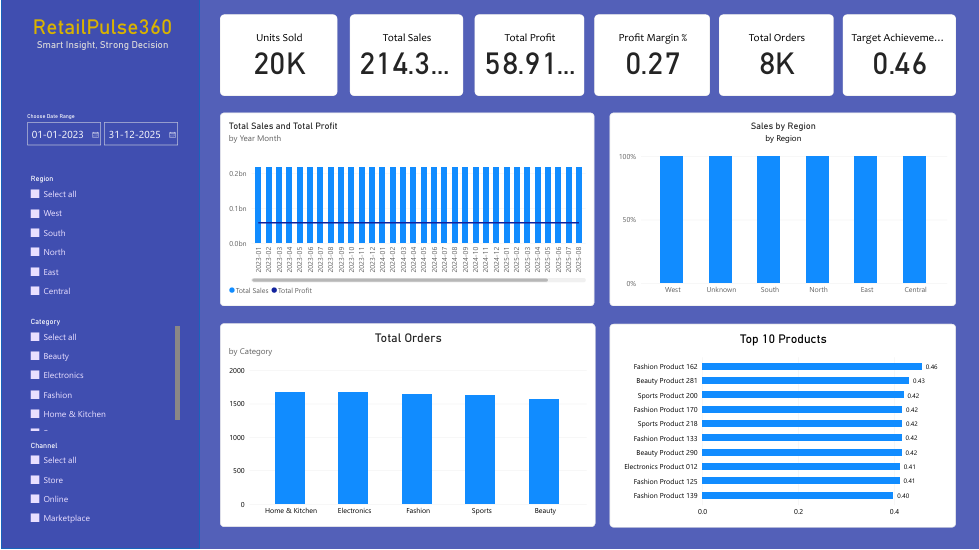

What the dashboard file says about the page in this screenshot:
{"tool":"powerbi","page":{"name":"Executive Overview - 01","canvas":[1920,1080],"ordinal":0},"visuals":[{"type":"cardVisual","fields":{"Data":["FactOrders.Total Sales"]},"box":[685,30,222.5,160],"z":0},{"type":"cardVisual","fields":{"Data":["FactOrders.Total Profit"]},"box":[930,30,215,160],"z":1000},{"type":"cardVisual","fields":{"Data":["FactOrders.Profit Margin %"]},"box":[1165,30,227.5,160],"z":2000},{"type":"cardVisual","fields":{"Data":["FactOrders.Total Orders"]},"box":[1410,30,225,160],"z":3000},{"type":"cardVisual","fields":{"Data":["FactOrders.Units Sold"]},"box":[430,30,230,160],"z":4000},{"type":"cardVisual","fields":{"Data":["FactTargets.Target Achievement %"]},"box":[1652.5,30,222.5,160],"z":5000},{"type":"shape","box":[0,0,390,1080],"z":6000},{"type":"textbox","title":"RetailPulse360","box":[35,30,327.5,125],"z":7000},{"type":"hundredPercentStackedColumnChart","title":"Sales by Region","fields":{"Category":["DimStore.Region"],"Y":["FactOrders.Total Sales"]},"box":[1195,222.5,680,380],"z":8000},{"type":"columnChart","fields":{"Category":["DimProduct.Category"],"Y":["FactOrders.Total Orders"]},"box":[430,636.7,736.7,400],"z":9000},{"type":"barChart","title":"Top 10 Products","fields":{"Category":["DimProduct.ProductName"],"Y":["FactOrders.Profit Margin %"]},"box":[1195,637.5,680,400],"z":10000},{"type":"slicer","fields":{"Values":["DimDate.Date"]},"box":[42.5,222.5,312.5,82.5],"z":11000},{"type":"slicer","fields":{"Values":["DimStore.Region"]},"box":[50,345,300,257.5],"z":12000},{"type":"slicer","fields":{"Values":["DimProduct.Category"]},"box":[50,625,300,223.3],"z":13000},{"type":"slicer","fields":{"Values":["FactOrders.Channel"]},"box":[50,867.5,295,170],"z":14000},{"type":"lineClusteredColumnComboChart","fields":{"Category":["DimDate.Year Month"],"Y":["FactOrders.Total Sales"],"Y2":["FactOrders.Total Profit"]},"box":[430,222.5,735,380],"z":15000}]}

Visuals, with their boxes in screenshot pixels (x1, y1, x2, y2), scaled from the page's 1920x1080 canvas onto the 979x550 screenshot:
cardVisual - FactOrders.Total Sales: <region>349, 15, 463, 97</region>
cardVisual - FactOrders.Total Profit: <region>474, 15, 584, 97</region>
cardVisual - FactOrders.Profit Margin %: <region>594, 15, 710, 97</region>
cardVisual - FactOrders.Total Orders: <region>719, 15, 834, 97</region>
cardVisual - FactOrders.Units Sold: <region>219, 15, 337, 97</region>
cardVisual - FactTargets.Target Achievement %: <region>843, 15, 956, 97</region>
shape: <region>0, 0, 199, 549</region>
"RetailPulse360" textbox: <region>18, 15, 185, 79</region>
"Sales by Region" hundredPercentStackedColumnChart: <region>609, 113, 956, 307</region>
columnChart - DimProduct.Category x FactOrders.Total Orders: <region>219, 324, 595, 528</region>
"Top 10 Products" barChart: <region>609, 325, 956, 528</region>
slicer - DimDate.Date: <region>22, 113, 181, 155</region>
slicer - DimStore.Region: <region>25, 176, 178, 307</region>
slicer - DimProduct.Category: <region>25, 318, 178, 432</region>
slicer - FactOrders.Channel: <region>25, 442, 176, 528</region>
lineClusteredColumnComboChart - DimDate.Year Month x FactOrders.Total Sales: <region>219, 113, 594, 307</region>
